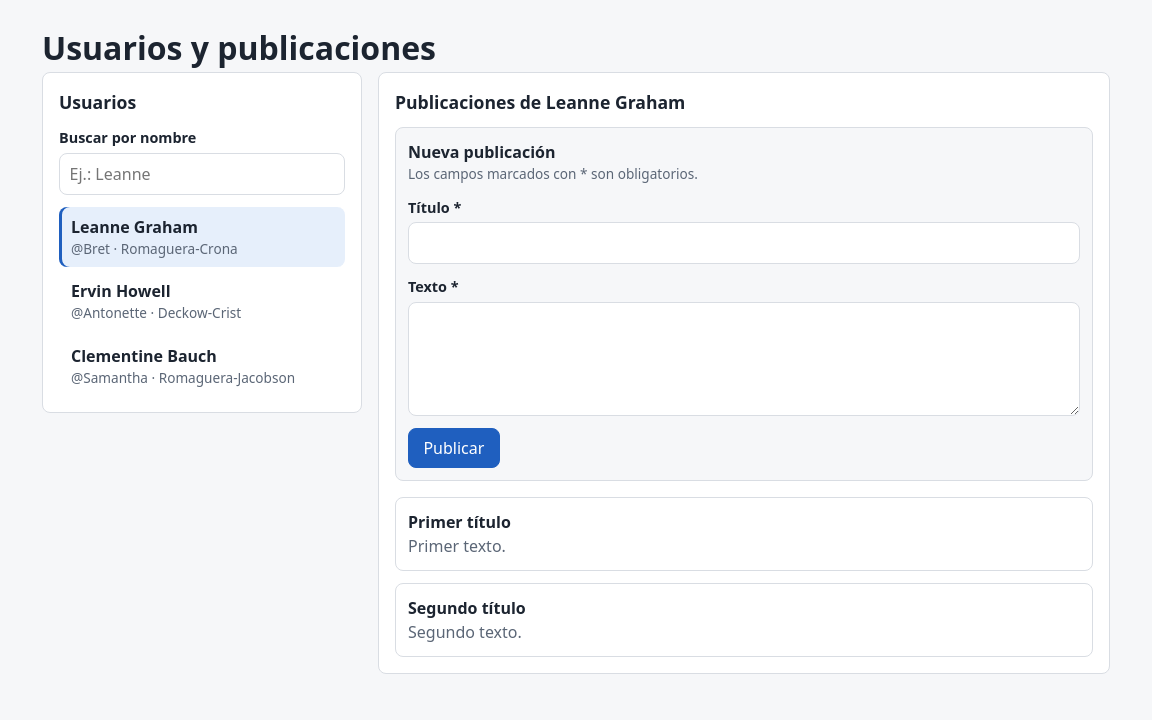
Test case: Formulario de nueva publicación › muestra el error y conserva lo escrito si el servidor rechaza el alta
The image size is (1152, 720).
Type "No se guardará" into the field labelled "Título". click: (744, 243)
box: [408,222,1080,264]
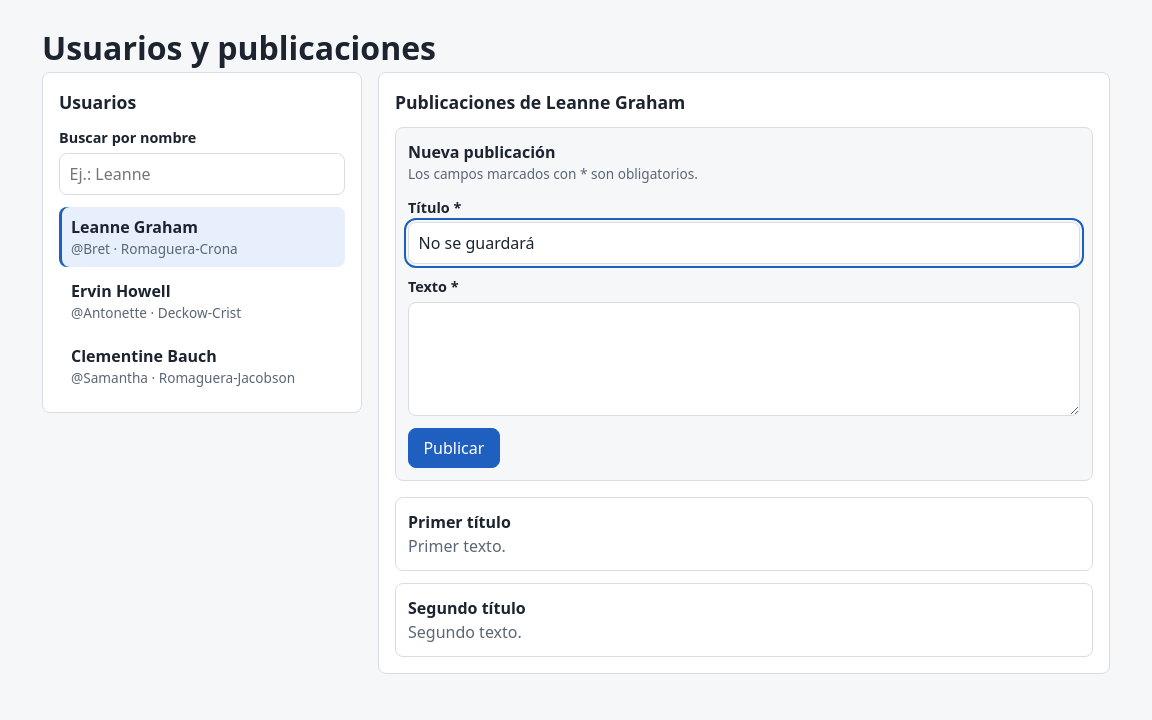
Type "Texto" into the text box labelled "Texto". click: (744, 359)
box: [408,302,1080,416]
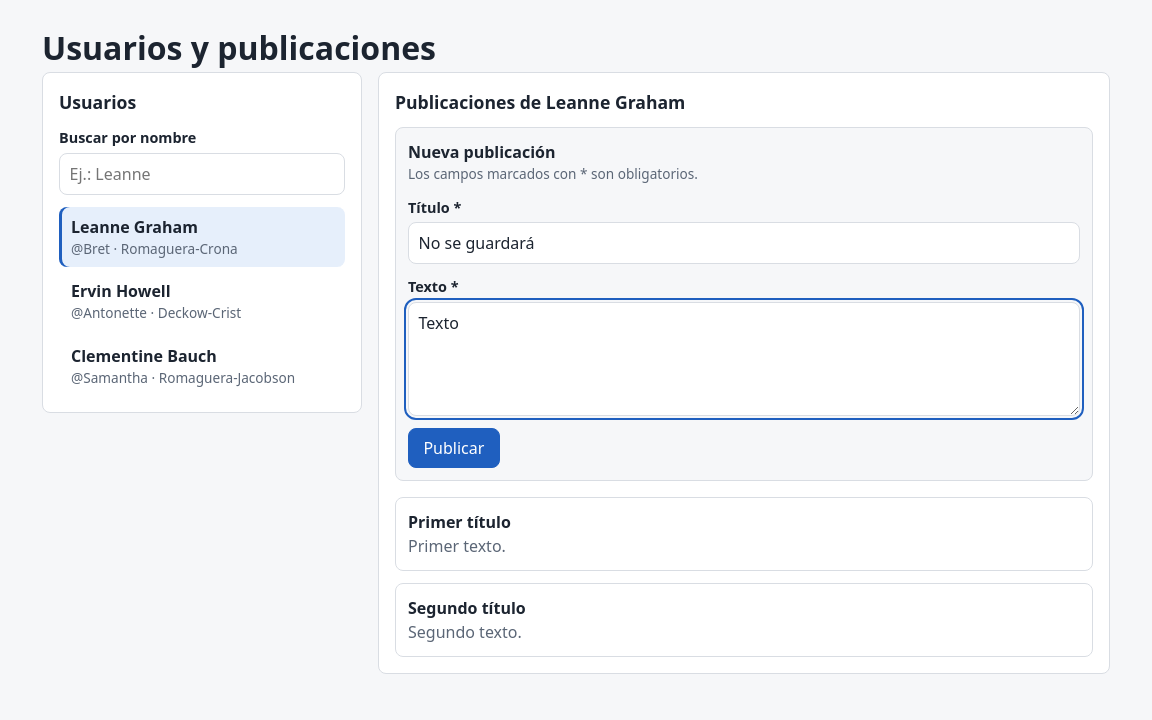
Click the button "Publicar". click: click(454, 448)
box: [408,428,500,468]
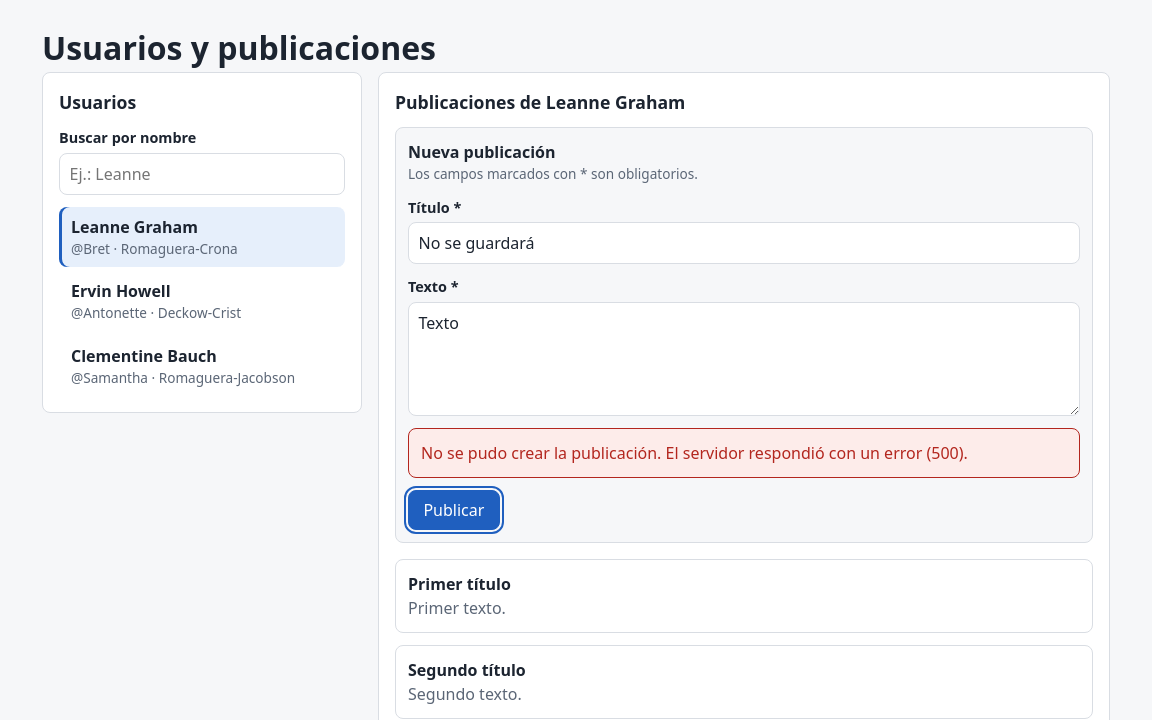
expect the message shows "No se pudo crear la publicación.": met, box [421,442,666,464]
